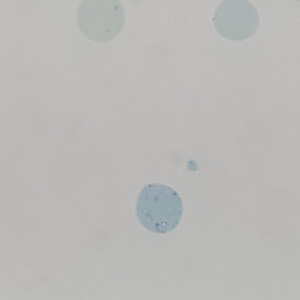erythrocyte: (210, 1, 262, 43)
punctate reticulocyte: (134, 182, 185, 236), (73, 1, 128, 44)
